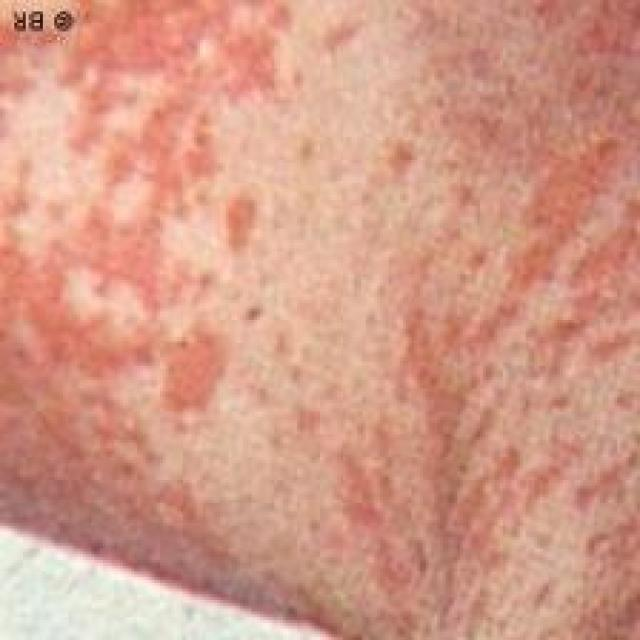others: (0, 0, 622, 636)
